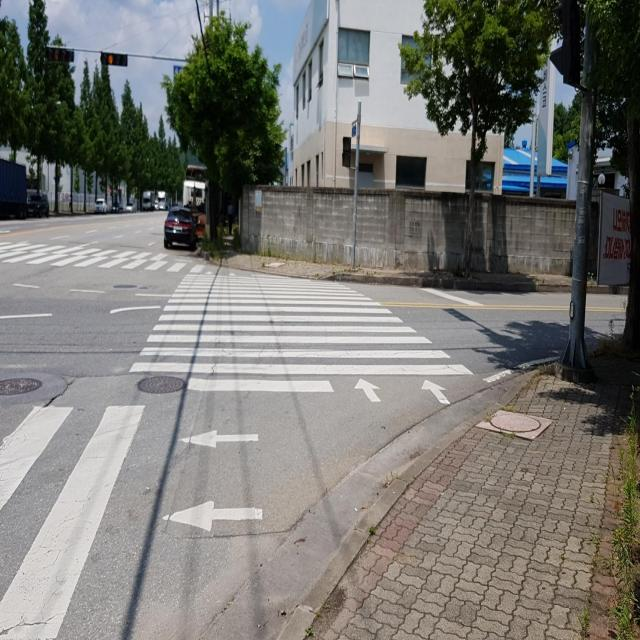횡단보도: (0, 406, 257, 640), (127, 268, 475, 406), (0, 243, 225, 273)
